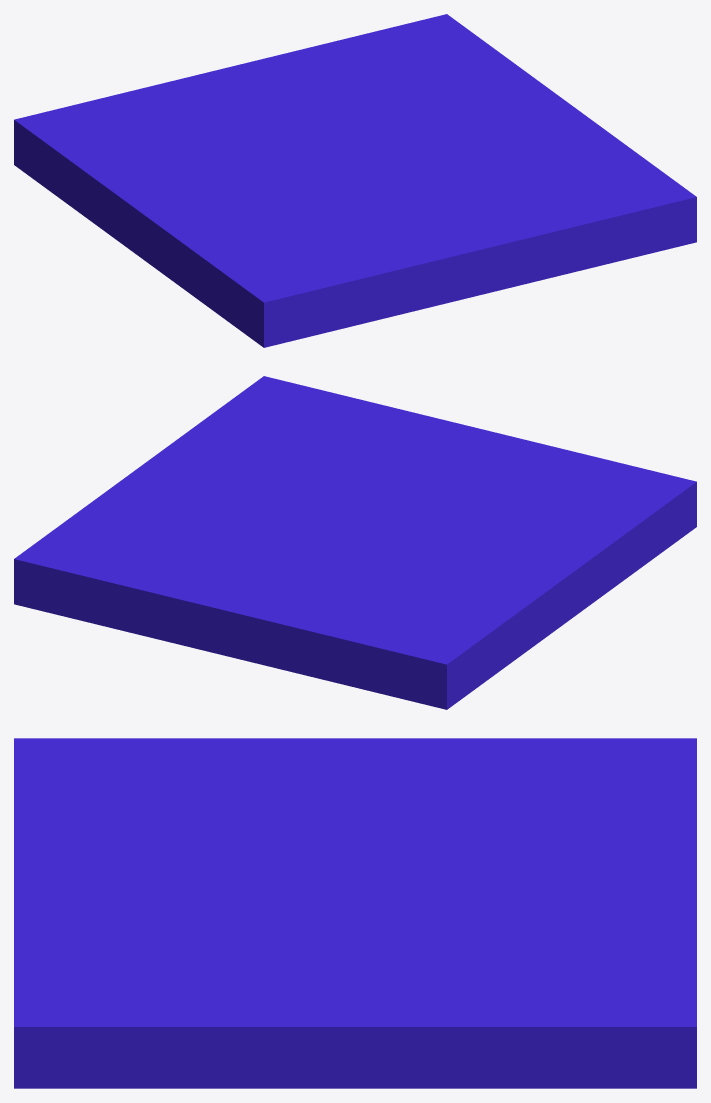
File: BasicTileFinal.fbx
3 views of the same model, one above another, from view 1: azimuth 30°, elevation 25°; view 2: azimuth 150°, elevation 25°; view 3: azimuth 270°, elevation 25° (orthographic). The views are drawn at different scales.
Visible parts, largest first — view 1: BasicTile; view 2: BasicTile; view 3: BasicTile.
Part boxes in pixels (x1,y1,x2,y2): BasicTile: (14,14,696,347); BasicTile: (14,376,696,709); BasicTile: (14,738,696,1088).
Size of the model in its own units: 200 by 20 by 200.
